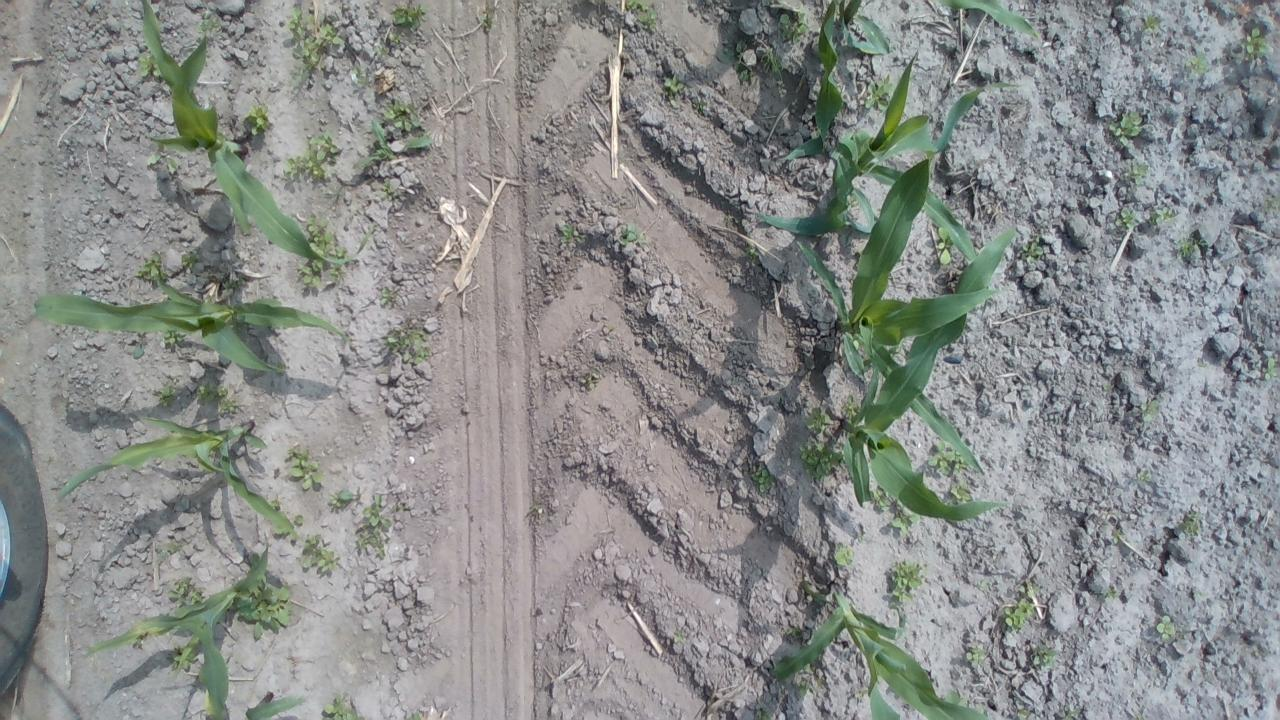Maize: (754, 0, 1022, 272), (789, 161, 986, 477), (137, 0, 356, 270), (830, 226, 1018, 527), (80, 529, 268, 720), (769, 574, 996, 720), (58, 412, 304, 540), (35, 276, 352, 374), (836, 0, 1042, 60), (244, 688, 308, 720)
Weeds: (358, 100, 433, 168), (284, 5, 346, 82), (237, 574, 290, 640), (280, 132, 340, 178), (357, 493, 393, 560), (304, 212, 352, 262), (886, 558, 930, 608), (797, 437, 844, 480), (286, 446, 328, 489), (384, 328, 434, 363), (926, 439, 970, 478), (758, 42, 787, 98), (718, 38, 754, 82), (300, 534, 339, 572), (1106, 110, 1144, 148), (296, 256, 341, 288), (194, 383, 240, 414), (863, 72, 898, 112), (169, 632, 201, 673), (1002, 596, 1036, 634), (166, 574, 204, 607), (144, 142, 180, 176), (779, 9, 810, 47), (889, 501, 921, 537), (390, 4, 428, 33), (802, 403, 834, 436), (322, 693, 360, 720), (1242, 28, 1274, 60), (133, 253, 168, 282), (626, 0, 658, 31), (802, 576, 834, 604), (1123, 158, 1152, 188), (934, 224, 954, 266), (246, 103, 272, 135), (752, 466, 778, 495), (614, 222, 648, 244), (1019, 233, 1043, 263), (558, 222, 588, 245), (158, 378, 180, 408), (136, 52, 162, 77), (1138, 396, 1159, 426), (1176, 511, 1202, 535), (872, 486, 895, 512), (1032, 643, 1057, 665), (1152, 204, 1176, 226), (162, 326, 188, 346), (834, 542, 854, 568), (1156, 615, 1176, 641), (328, 488, 355, 507), (1186, 54, 1210, 75), (943, 688, 970, 706), (1015, 580, 1041, 598), (838, 393, 857, 417), (197, 15, 222, 33), (1262, 357, 1280, 382), (663, 75, 688, 93), (180, 248, 202, 268), (948, 483, 971, 502), (1143, 12, 1162, 34), (965, 645, 986, 664), (322, 181, 344, 199), (1120, 206, 1137, 229), (578, 372, 600, 389), (380, 180, 398, 200), (782, 624, 804, 640), (794, 680, 812, 698), (1178, 237, 1194, 257), (848, 332, 866, 349), (1063, 703, 1081, 720), (159, 542, 178, 558), (348, 68, 364, 86), (128, 343, 146, 359), (755, 704, 773, 720), (476, 12, 492, 28), (1106, 532, 1122, 548), (378, 287, 391, 306), (1263, 196, 1280, 210), (386, 30, 400, 45), (274, 361, 288, 376), (223, 278, 242, 289), (744, 245, 761, 257), (292, 514, 306, 528), (856, 686, 870, 698), (1106, 586, 1118, 600), (798, 662, 813, 673), (374, 44, 386, 57), (266, 496, 280, 507), (1018, 708, 1030, 720), (406, 711, 421, 720), (1136, 470, 1148, 481), (693, 102, 706, 112), (816, 231, 830, 240), (674, 631, 684, 642), (976, 580, 986, 590), (174, 56, 182, 68), (858, 536, 866, 546), (807, 111, 816, 116)
